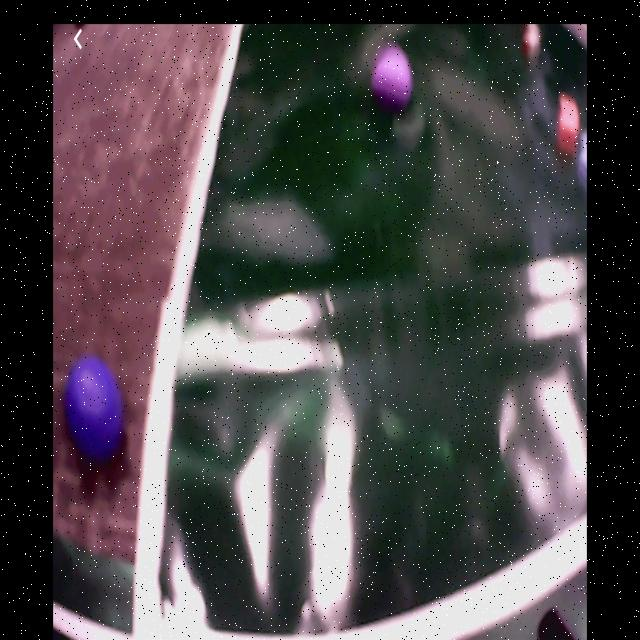ball: (66, 361, 122, 456), (376, 48, 413, 110)
